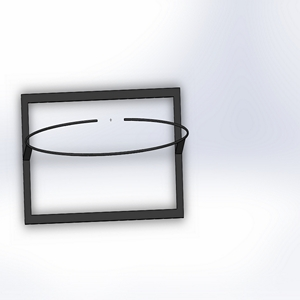circle: (18, 85, 190, 226)
